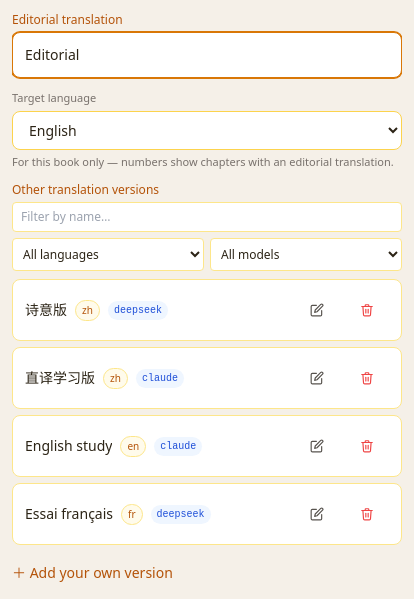
version filter › shows an explicit no-match note
In the field named "Filter versions by name": (207, 217) [12,202,402,232], type "zzzz"
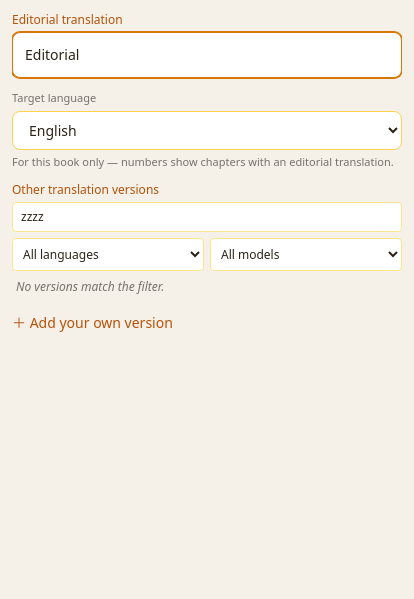
Result: the text "No versions match the filter." is shown at [16,278,164,295]
